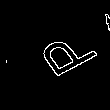P_SW: (18, 26, 92, 84)
